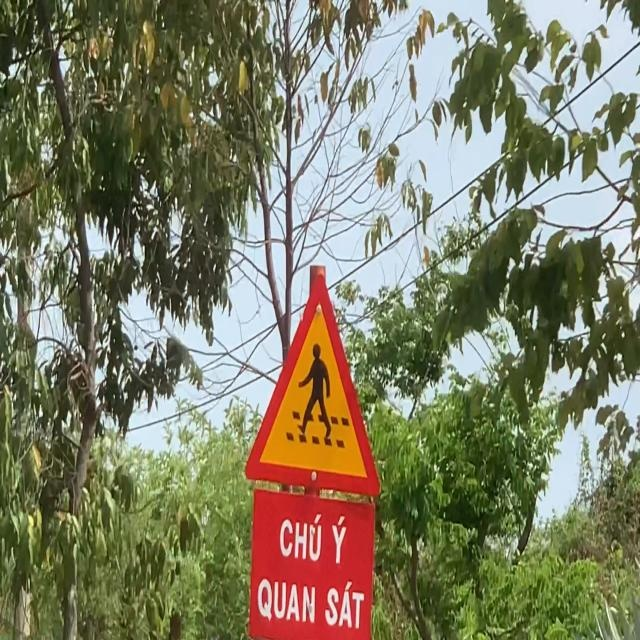bien_nguy_hiem: (238, 256, 386, 498)
